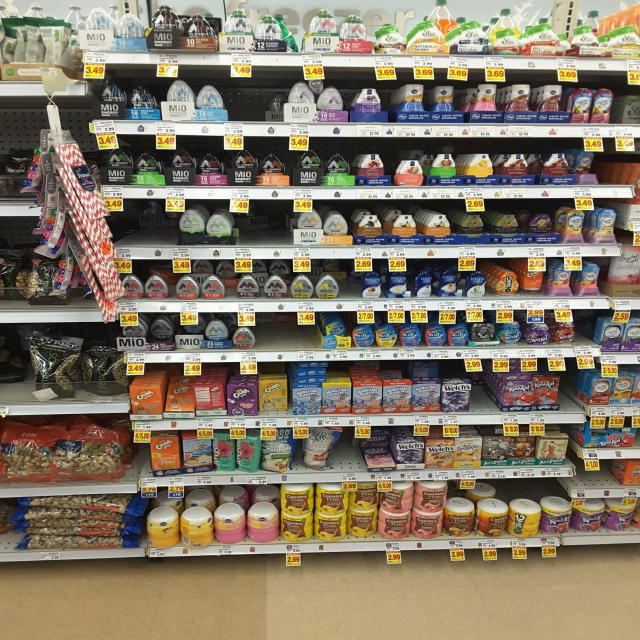empty: (117, 197, 177, 258), (255, 312, 325, 351), (462, 360, 503, 421), (325, 423, 364, 477), (229, 77, 268, 125), (576, 460, 623, 496), (553, 363, 584, 416)
